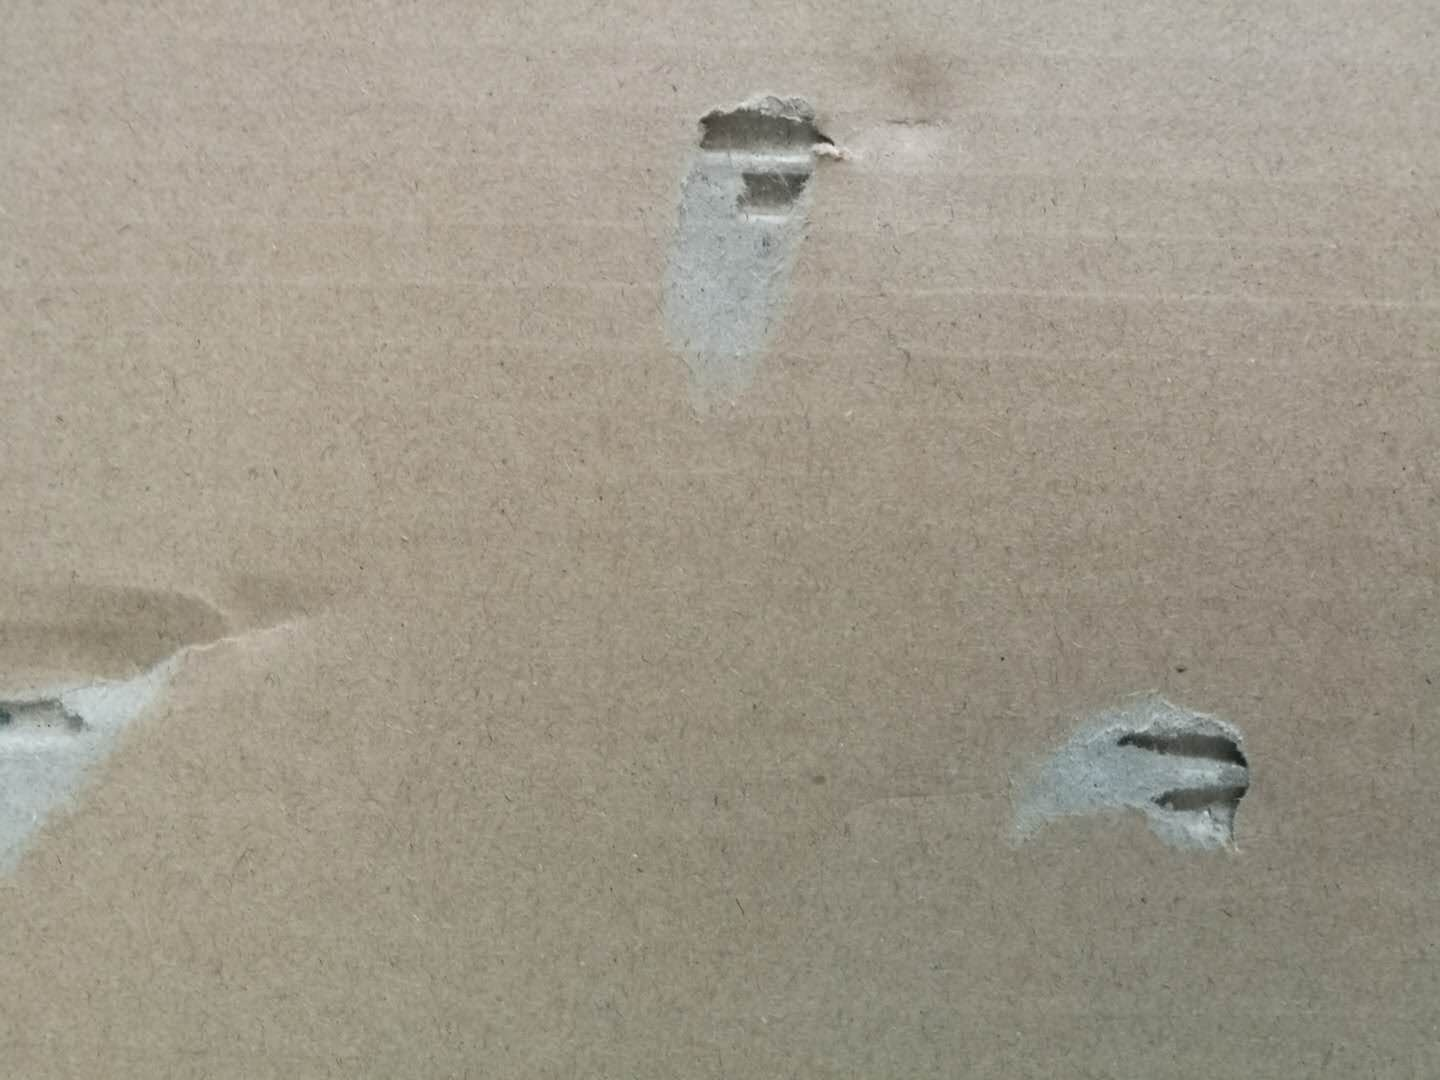defect: (1, 525, 362, 920), (629, 24, 979, 420), (991, 670, 1282, 889)
